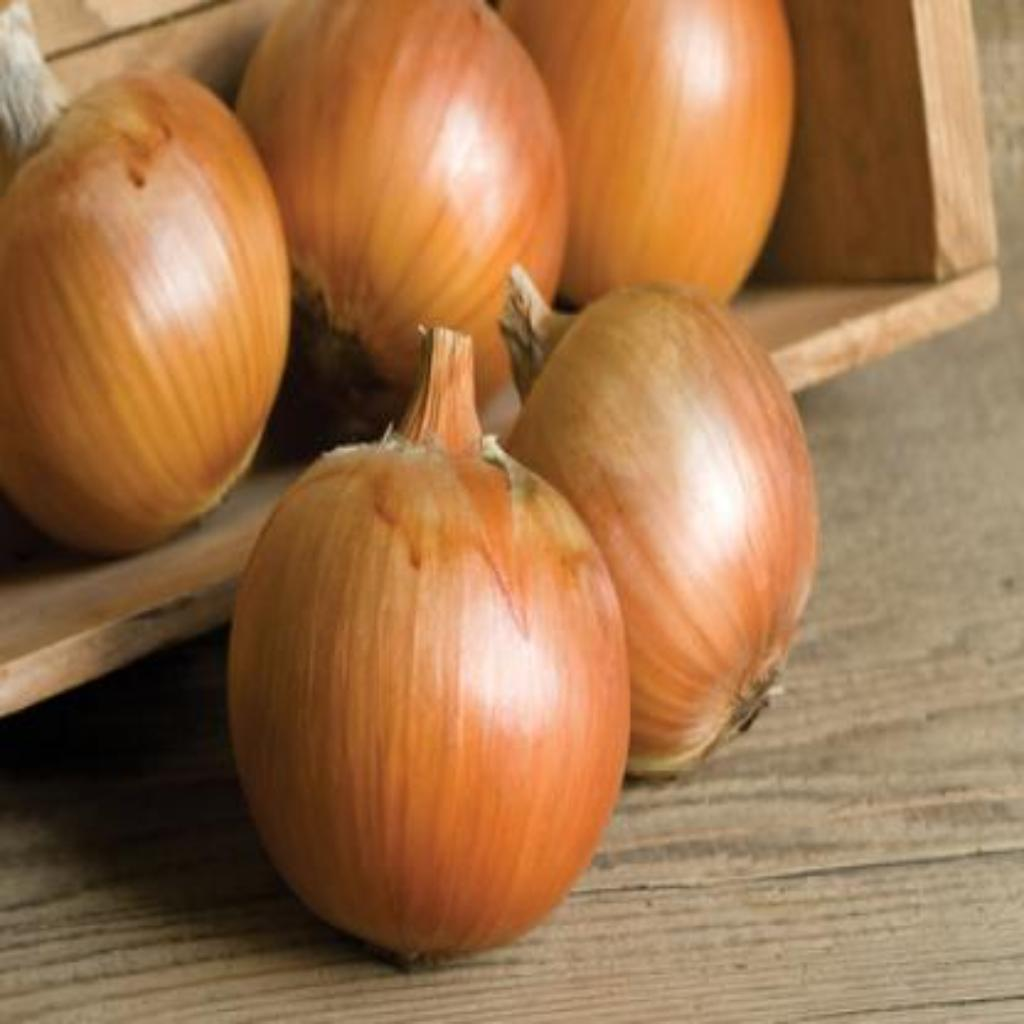Onion: (229, 327, 630, 961), (502, 271, 820, 777), (0, 2, 288, 554), (239, 0, 566, 400), (502, 0, 795, 304)
